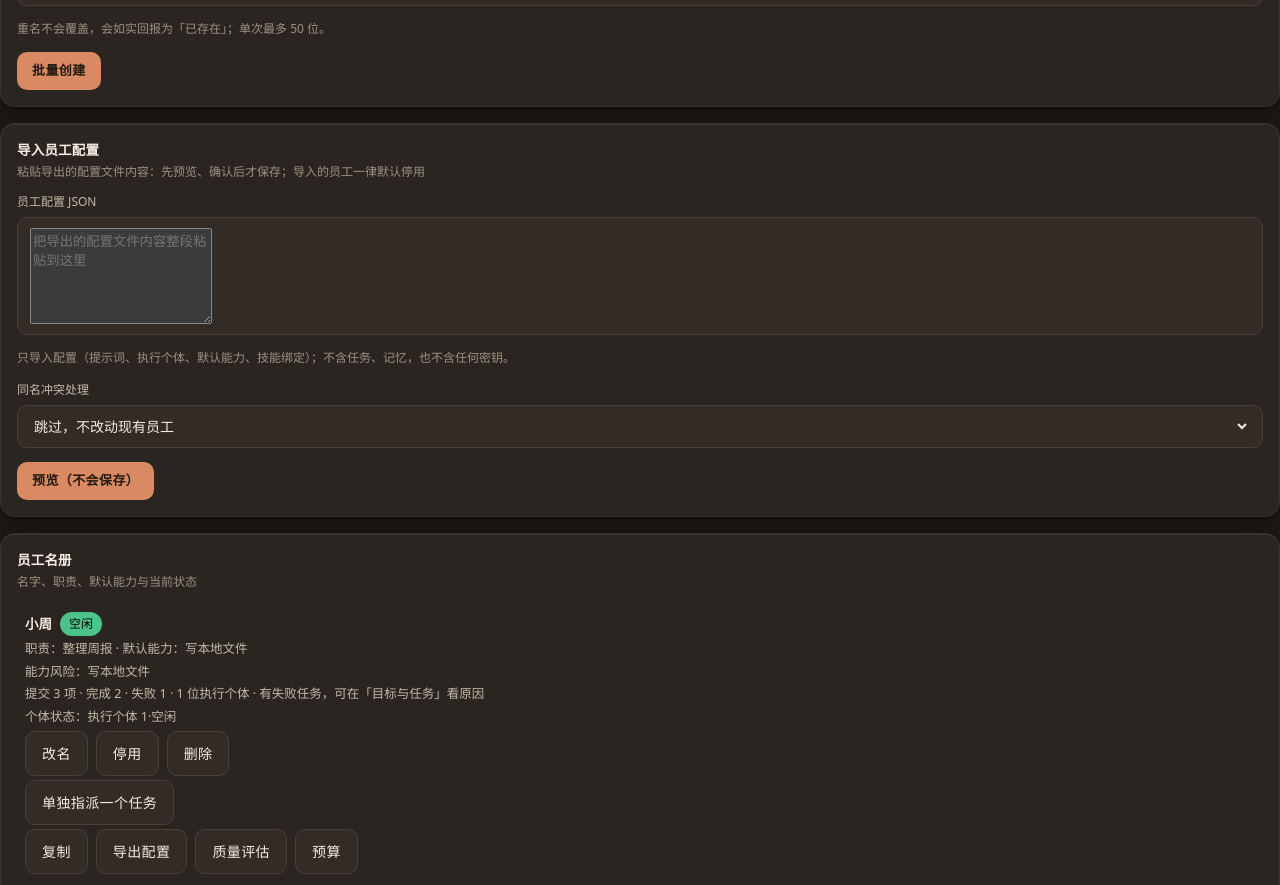
Test case: 员工补齐能力 › 导出：取回配置并触发下载
(page scrolled)
Click the button "导出配置" at (142, 851), box top-left (96, 829), bottom-right (187, 874)
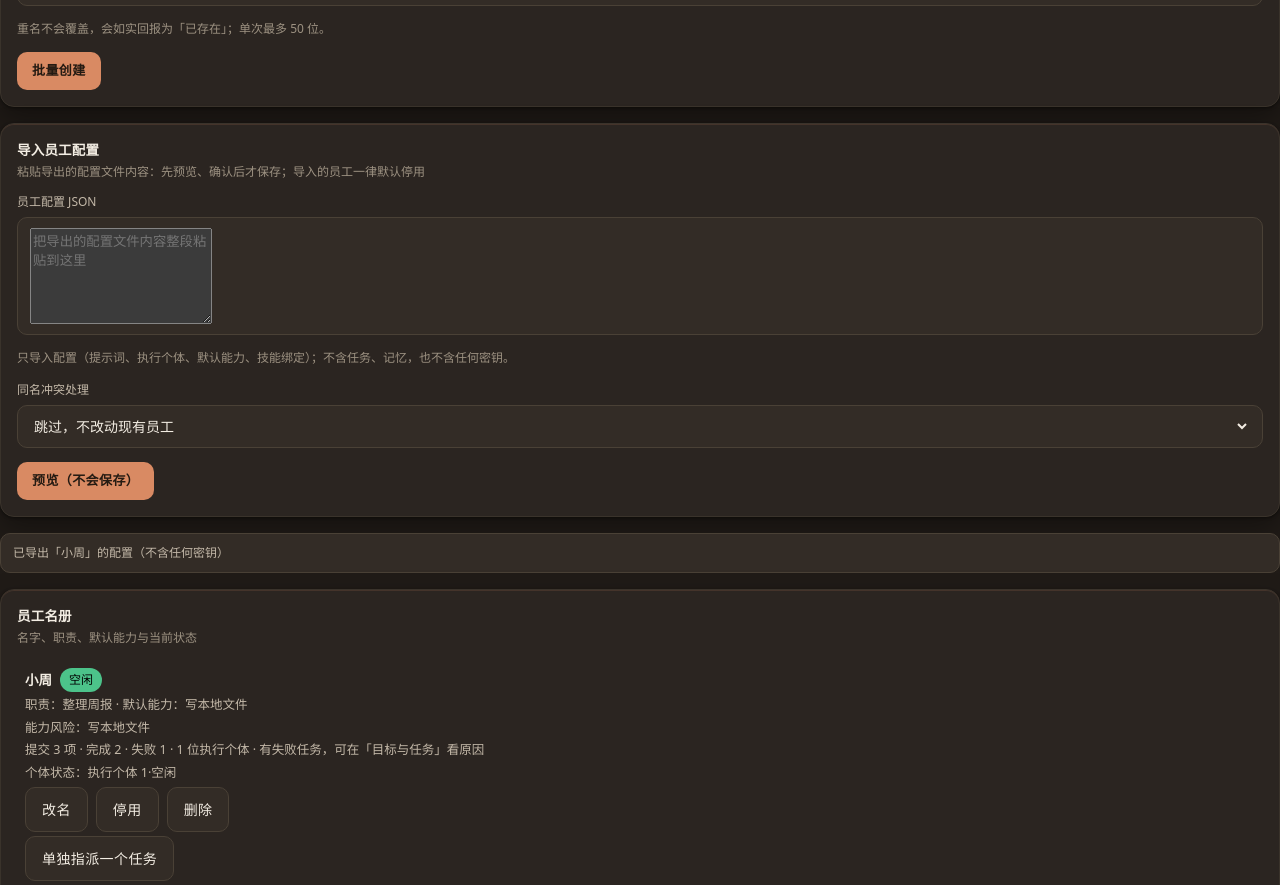
Check: the text "已导出「小周」的配置（不含任何密钥）" is shown, box top-left (13, 544), bottom-right (229, 562)
